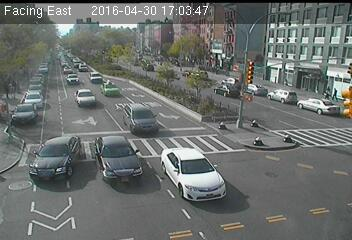neg: (118, 25, 134, 46), (139, 61, 153, 79), (87, 29, 99, 46), (161, 56, 172, 70), (185, 80, 195, 94), (30, 42, 40, 56), (66, 50, 76, 63), (177, 38, 185, 49)
pos: (330, 85, 342, 100), (322, 85, 333, 100), (9, 79, 19, 93)
